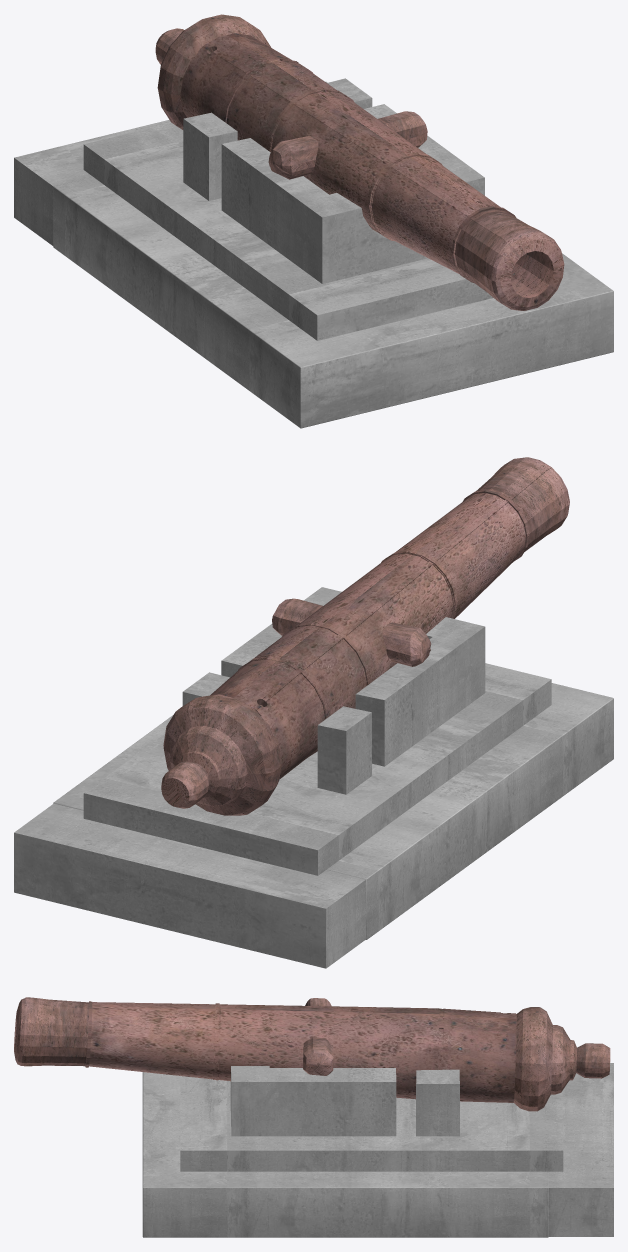
File: Cannon.glb
3 renders of one model, top to bottom at view 1: azimuth 30°, elevation 25°; view 2: azimuth 150°, elevation 25°; view 3: azimuth 270°, elevation 25°, orthographic. The views are drawn at different scales.
Visible parts, largest first — view 1: ChamferBox001, Cylinder001; view 2: ChamferBox001, Cylinder001; view 3: ChamferBox001, Cylinder001.
Boxes of the visible parts, x1,y1,x2,y2 form: ChamferBox001: (14, 78, 613, 428); Cylinder001: (155, 14, 564, 310); ChamferBox001: (14, 587, 613, 968); Cylinder001: (161, 457, 569, 815); ChamferBox001: (142, 1063, 613, 1237); Cylinder001: (14, 997, 610, 1111).
Bounding box in the file's own units: 0.8 × 0.5138 × 1.62.
2 materials, 2 textured.
